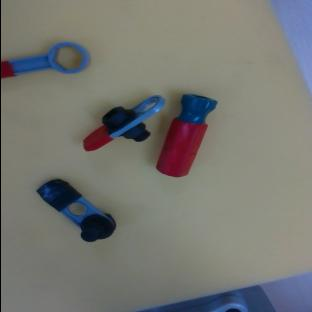part_1_bad: (30, 171, 120, 252)
part_1_good: (75, 94, 173, 158)
part_2_good: (152, 88, 217, 183)
part_3_good: (0, 42, 90, 78)
